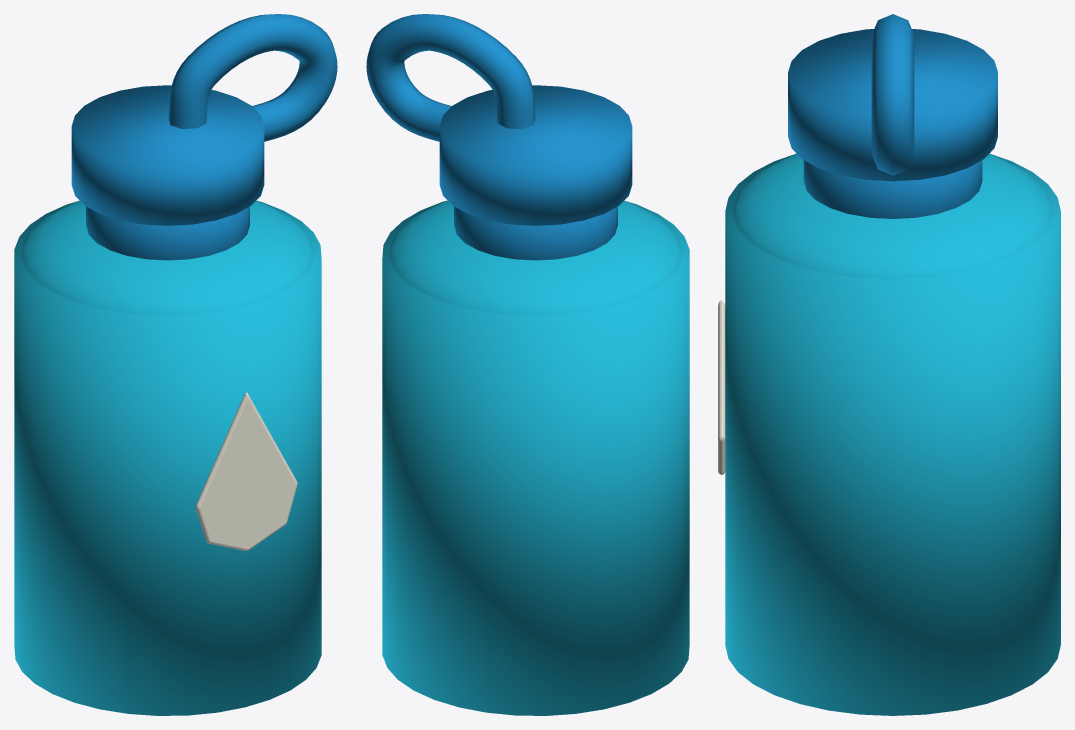
The model's file is water_bottle.glb.
3 views of the same model, side by side, from view 1: azimuth 30°, elevation 25°; view 2: azimuth 150°, elevation 25°; view 3: azimuth 270°, elevation 25° (orthographic). The views are drawn at different scales.
Visible parts, largest first — view 1: water_bottle; view 2: water_bottle; view 3: water_bottle.
Boxes of the visible parts, box(x1,y1,x2,y2) form: water_bottle: box(14, 14, 337, 715); water_bottle: box(366, 14, 689, 715); water_bottle: box(718, 14, 1060, 715).
Bounding box in the file's own units: 0.5305 × 1.03 × 0.48.
